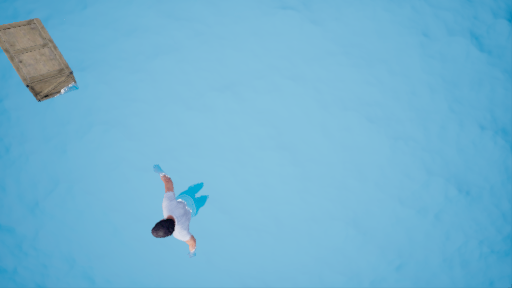person: (133, 163, 207, 255)
